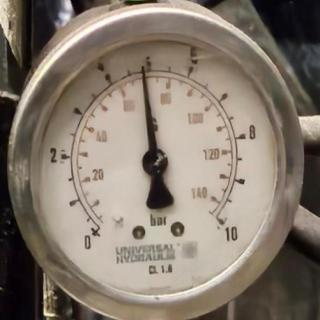gauge: (20, 24, 296, 306), (197, 198, 243, 246), (74, 214, 112, 254), (140, 147, 170, 177), (137, 60, 149, 76)
